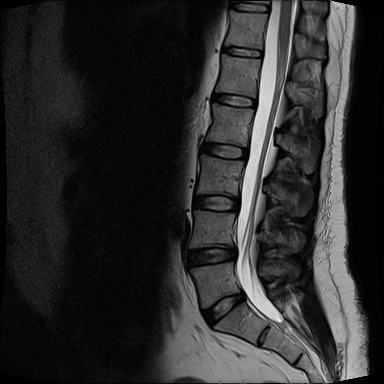Lumbar Disc Bulge (LDB): (198, 287, 253, 332), (181, 238, 243, 275)
Normal IVD: (203, 87, 260, 114), (194, 139, 252, 164), (188, 192, 245, 216), (215, 41, 266, 61), (227, 1, 273, 15)
Spinal Stenosis (SS): (221, 239, 243, 267), (236, 285, 249, 307)
